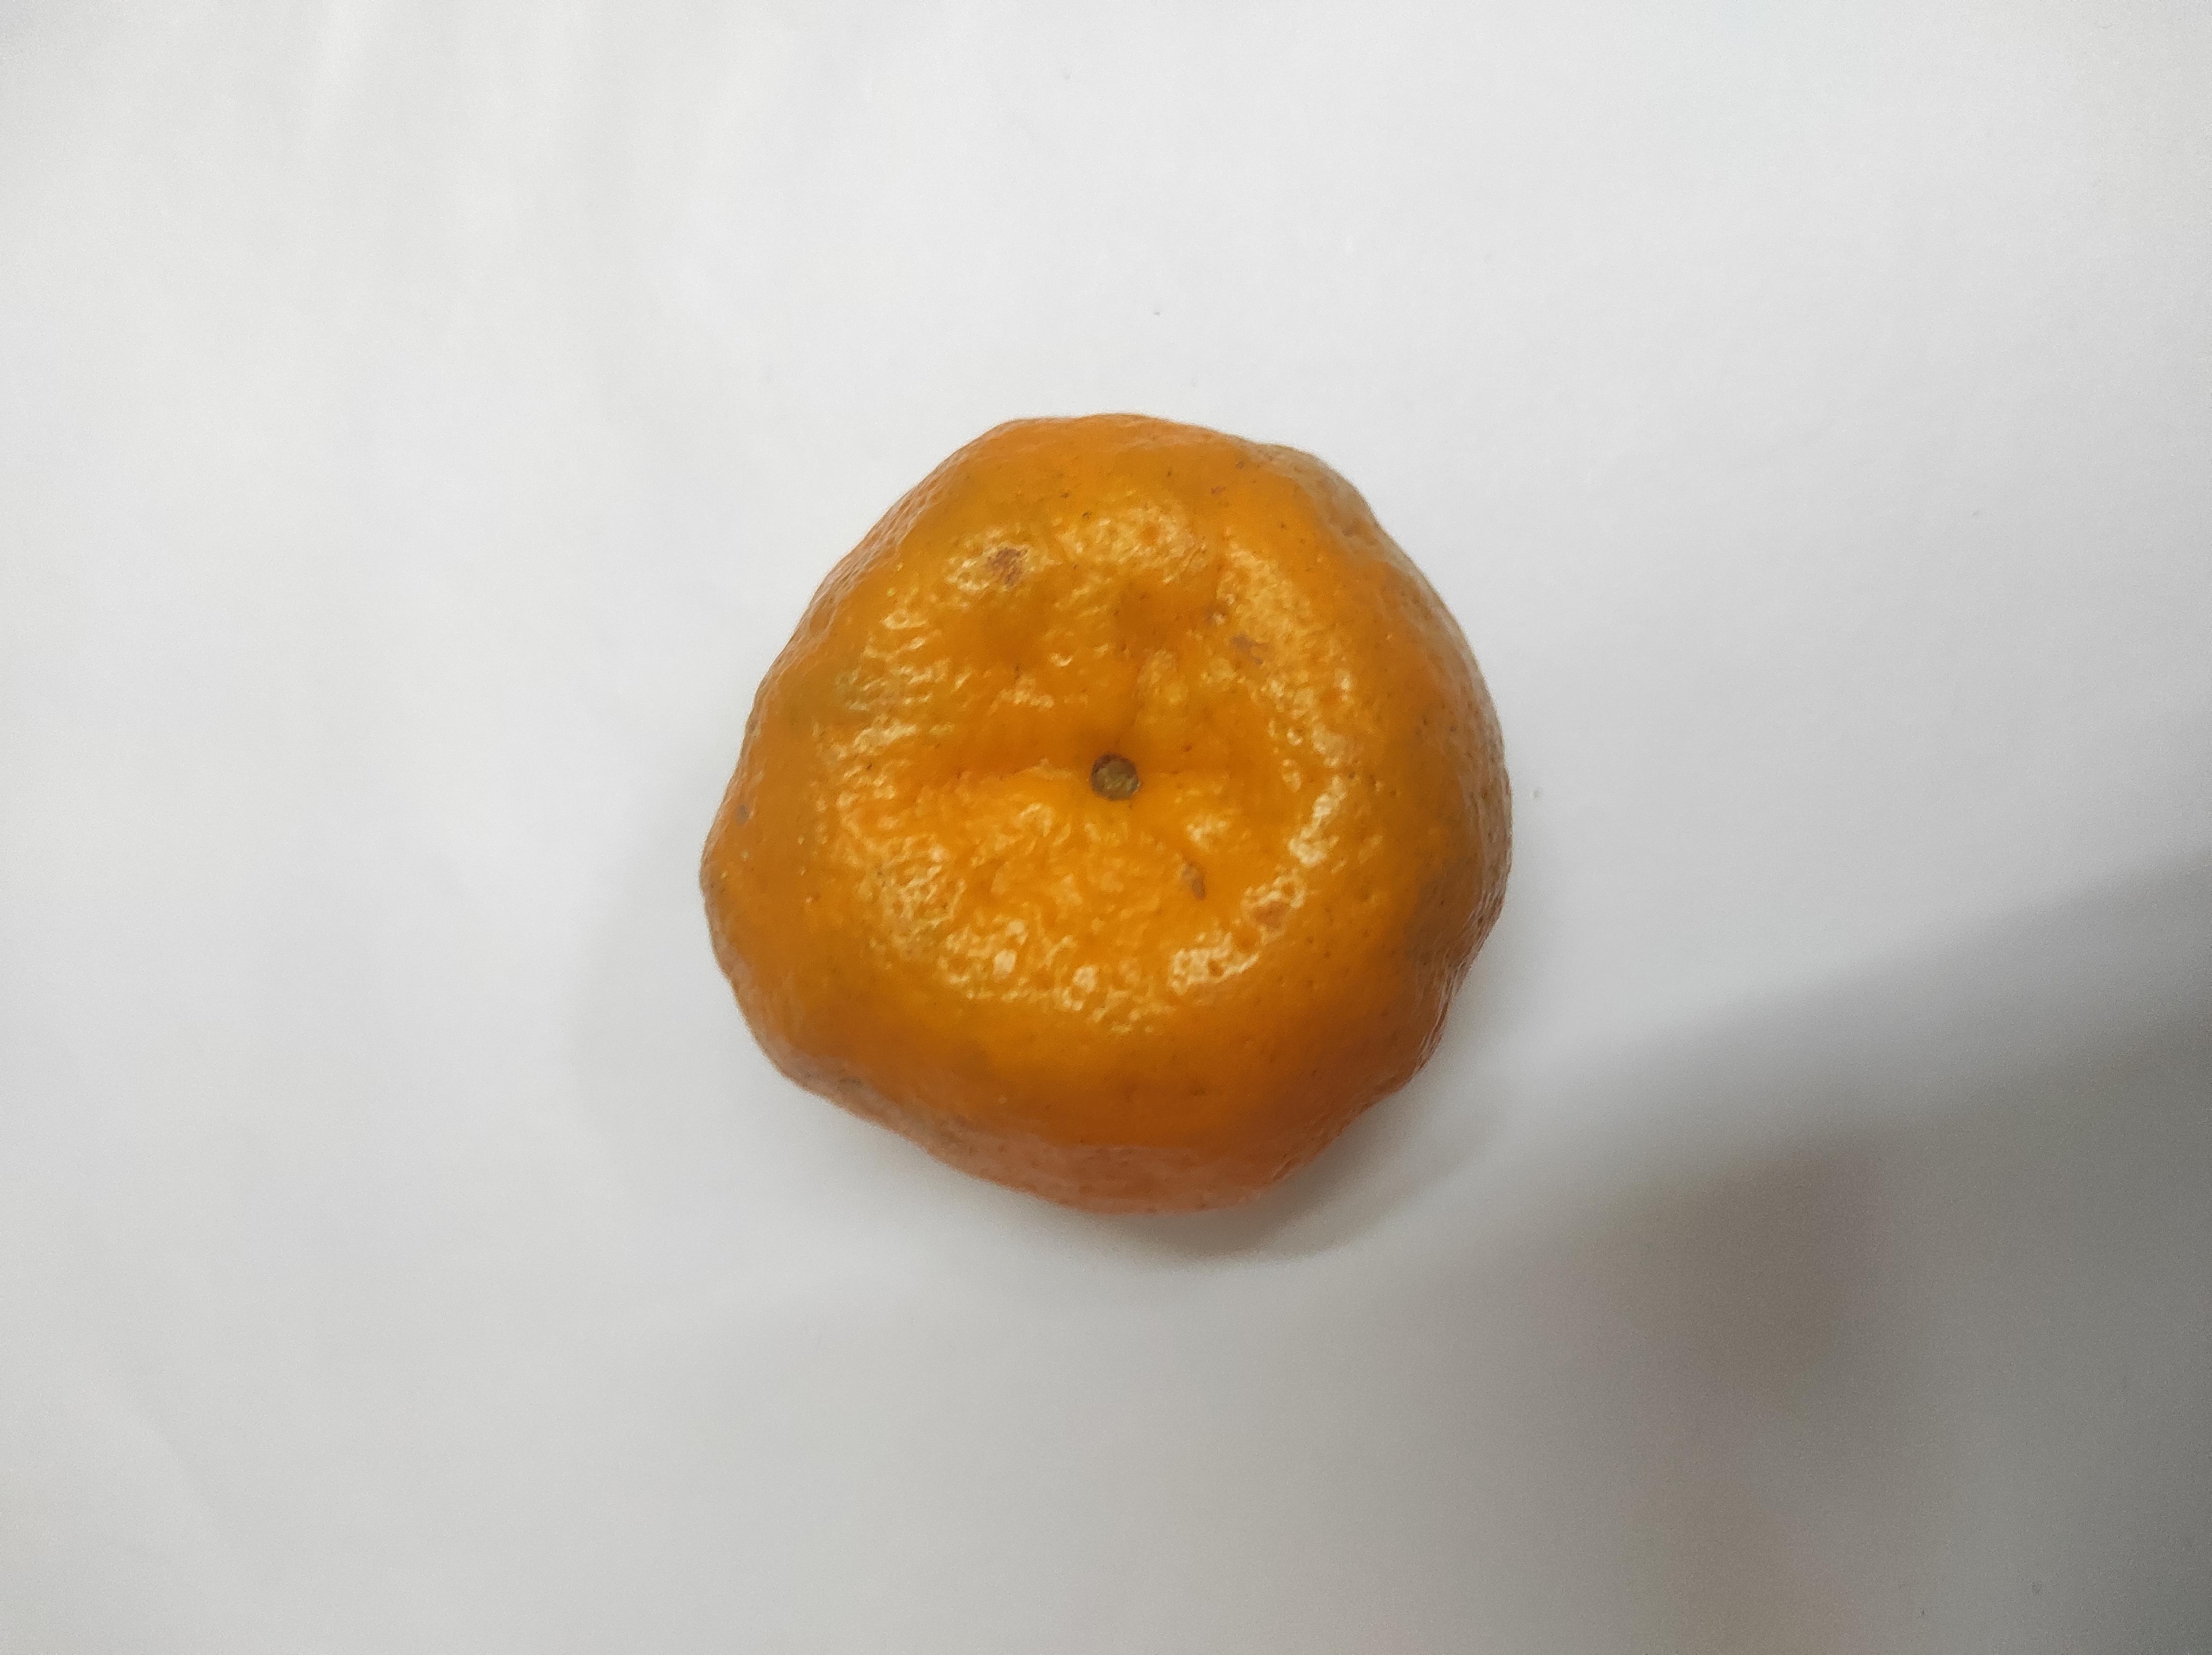Unripe: (593, 539, 1657, 1127)
